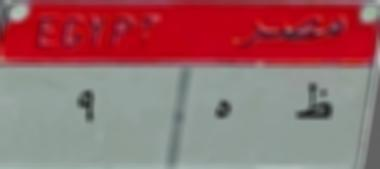9: (72, 82, 102, 134)
Thaa: (288, 77, 338, 129)
haa: (209, 90, 240, 130)
